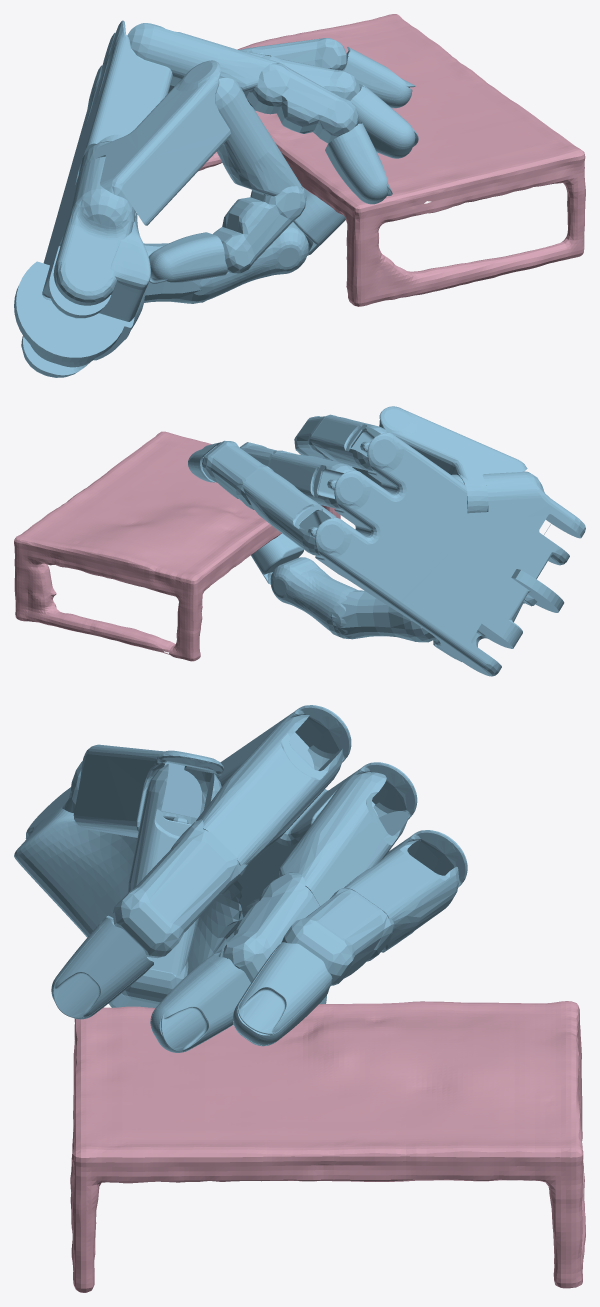
3 views of the same model, one above another, from view 1: azimuth 30°, elevation 25°; view 2: azimuth 150°, elevation 25°; view 3: azimuth 270°, elevation 25° (orthographic). The views are drawn at different scales.
Visible parts, largest first — view 1: hand, world; view 2: hand, world; view 3: hand, world.
Boxes of the visible parts, bbox=[...] form: hand: bbox=[14, 20, 418, 377]; world: bbox=[199, 14, 585, 306]; hand: bbox=[188, 406, 585, 676]; world: bbox=[14, 431, 340, 661]; hand: bbox=[14, 705, 467, 1052]; world: bbox=[70, 1001, 585, 1292].
Bounding box in the file's own units: 0.2136 × 0.1159 × 0.1466.
